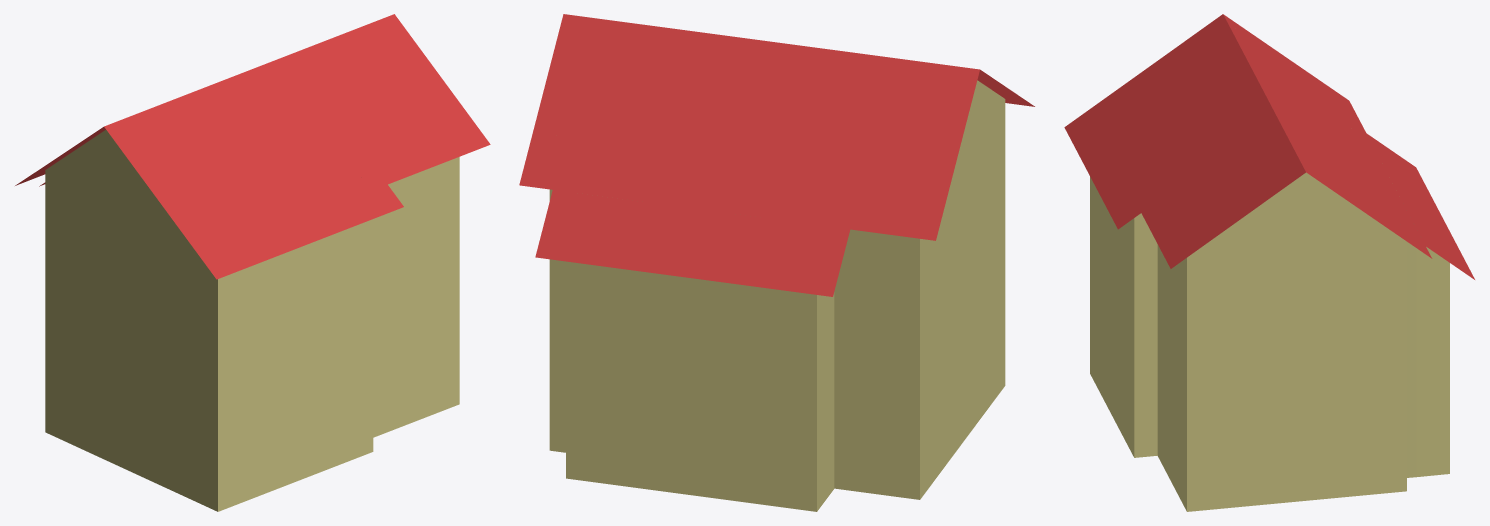
3 views of the same model, side by side, from view 1: azimuth 30°, elevation 25°; view 2: azimuth 150°, elevation 25°; view 3: azimuth 270°, elevation 25° (orthographic). The views are drawn at different scales.
Bounding box in the file's own units: 15.2 × 14.44 × 13.08.
